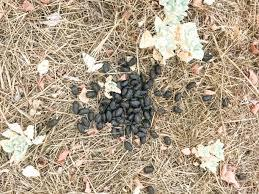Elk: (75, 60, 162, 131)
